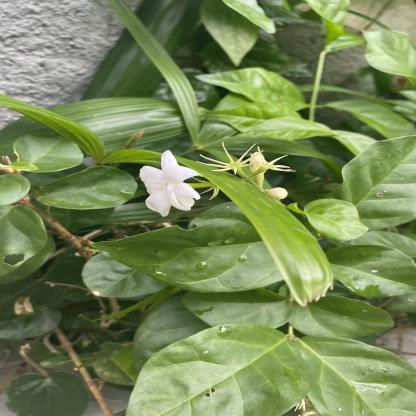Melati: (117, 151, 214, 213)
